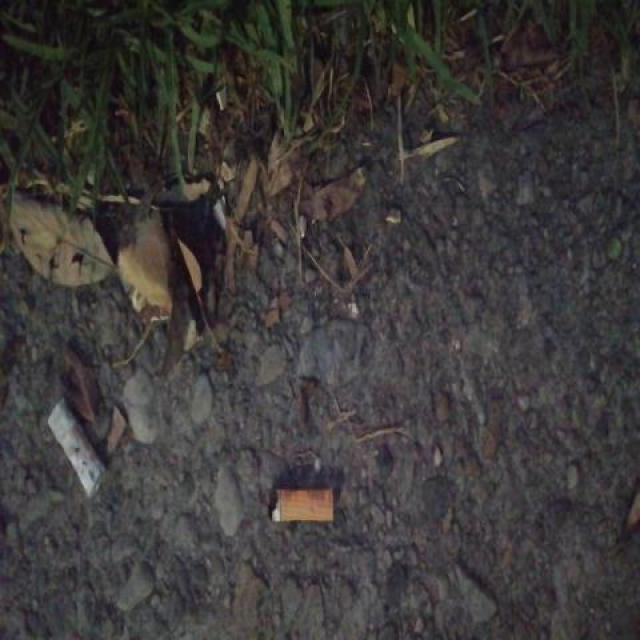non-organic waste: (44, 393, 112, 503), (265, 482, 340, 526)
